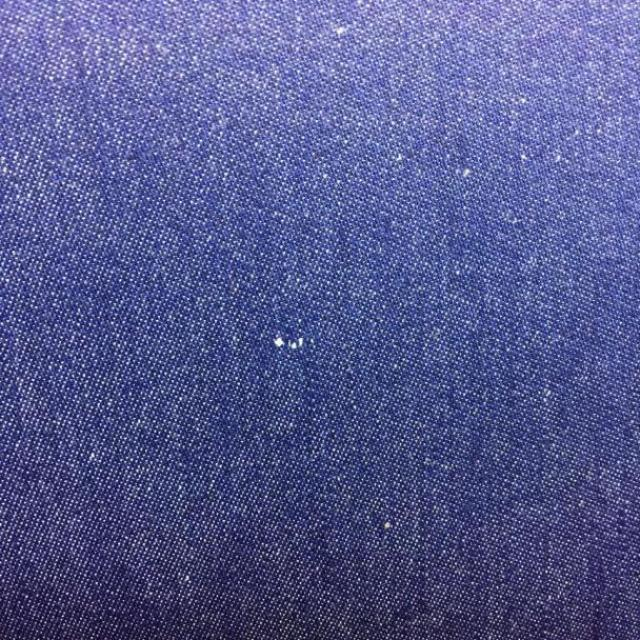Knot: (274, 337, 315, 350)
